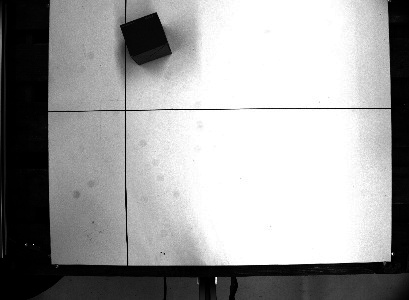b7: (117, 10, 175, 67)
